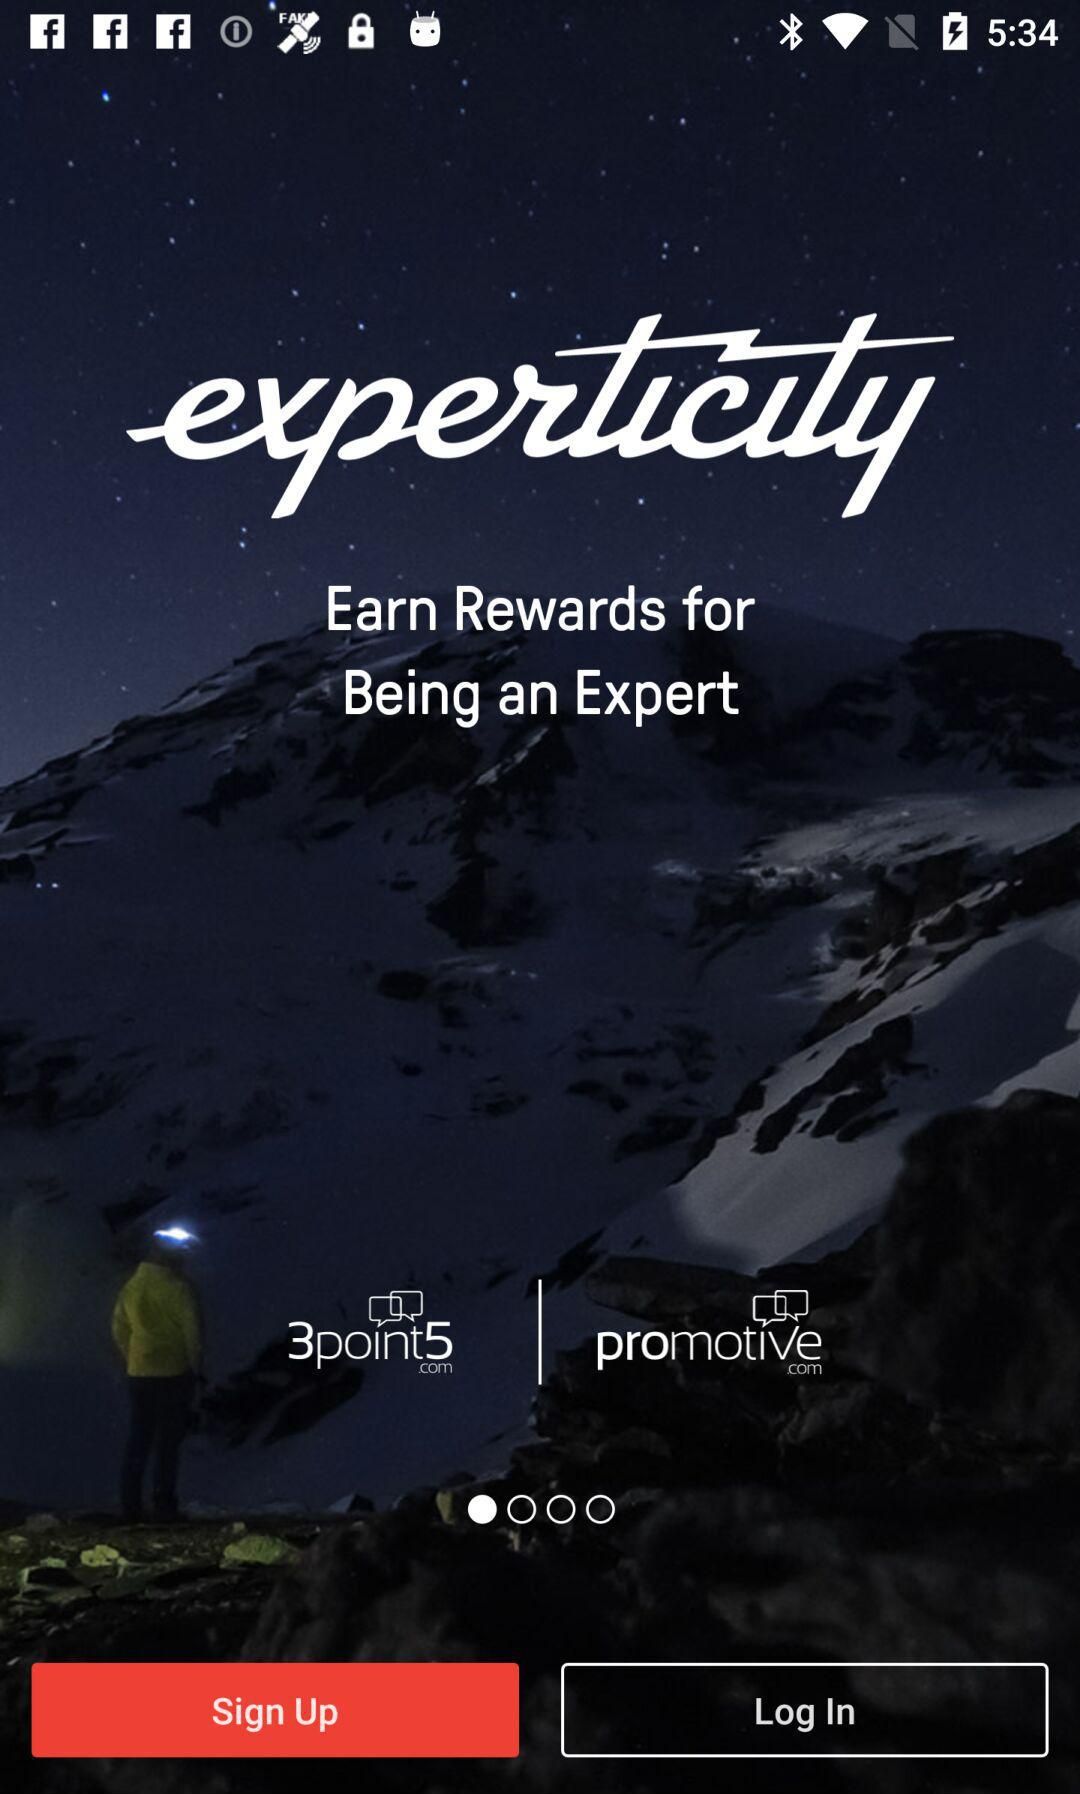BackgroundImage: (1, 64, 1080, 1794)
Image: (126, 314, 957, 524), (596, 1288, 824, 1376), (286, 1289, 454, 1375)
PageIndicator: (466, 1493, 618, 1527)
Text: (325, 582, 756, 730)
TextButton: (561, 1662, 1051, 1758), (32, 1662, 520, 1758)
UpperTaskBar: (1, 1, 1080, 64)
